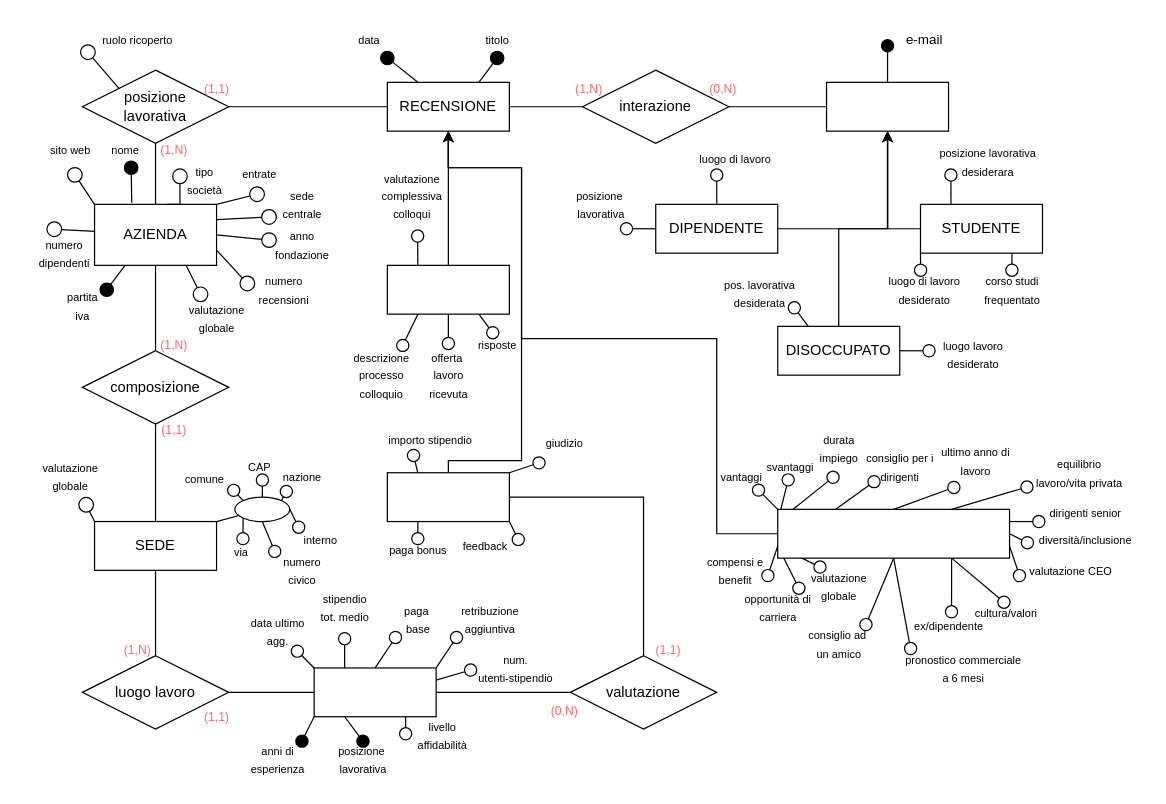
Image size: 1166x804. Some labels were removed from this diagram. The centre of each missing label's shape, as x and y in pixels:
"indirizzo" belongs at (x=262, y=509).
"RECENSIONE COLLOQUIO" belongs at (x=447, y=289).
"RECENSIONE ESPERIENZA LAVORATIVA" belongs at (x=893, y=533).
"RECENSIONE STIPENDIO" belongs at (x=447, y=497).
"STIPENDIO" belongs at (x=374, y=692).
"UTENTE" belongs at (x=887, y=106).
